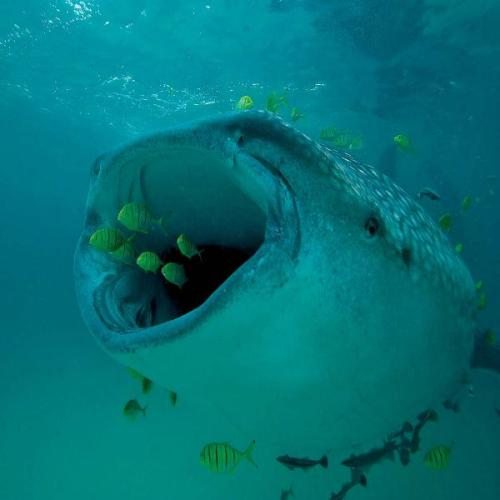shark-endangered: (72, 107, 481, 459)
